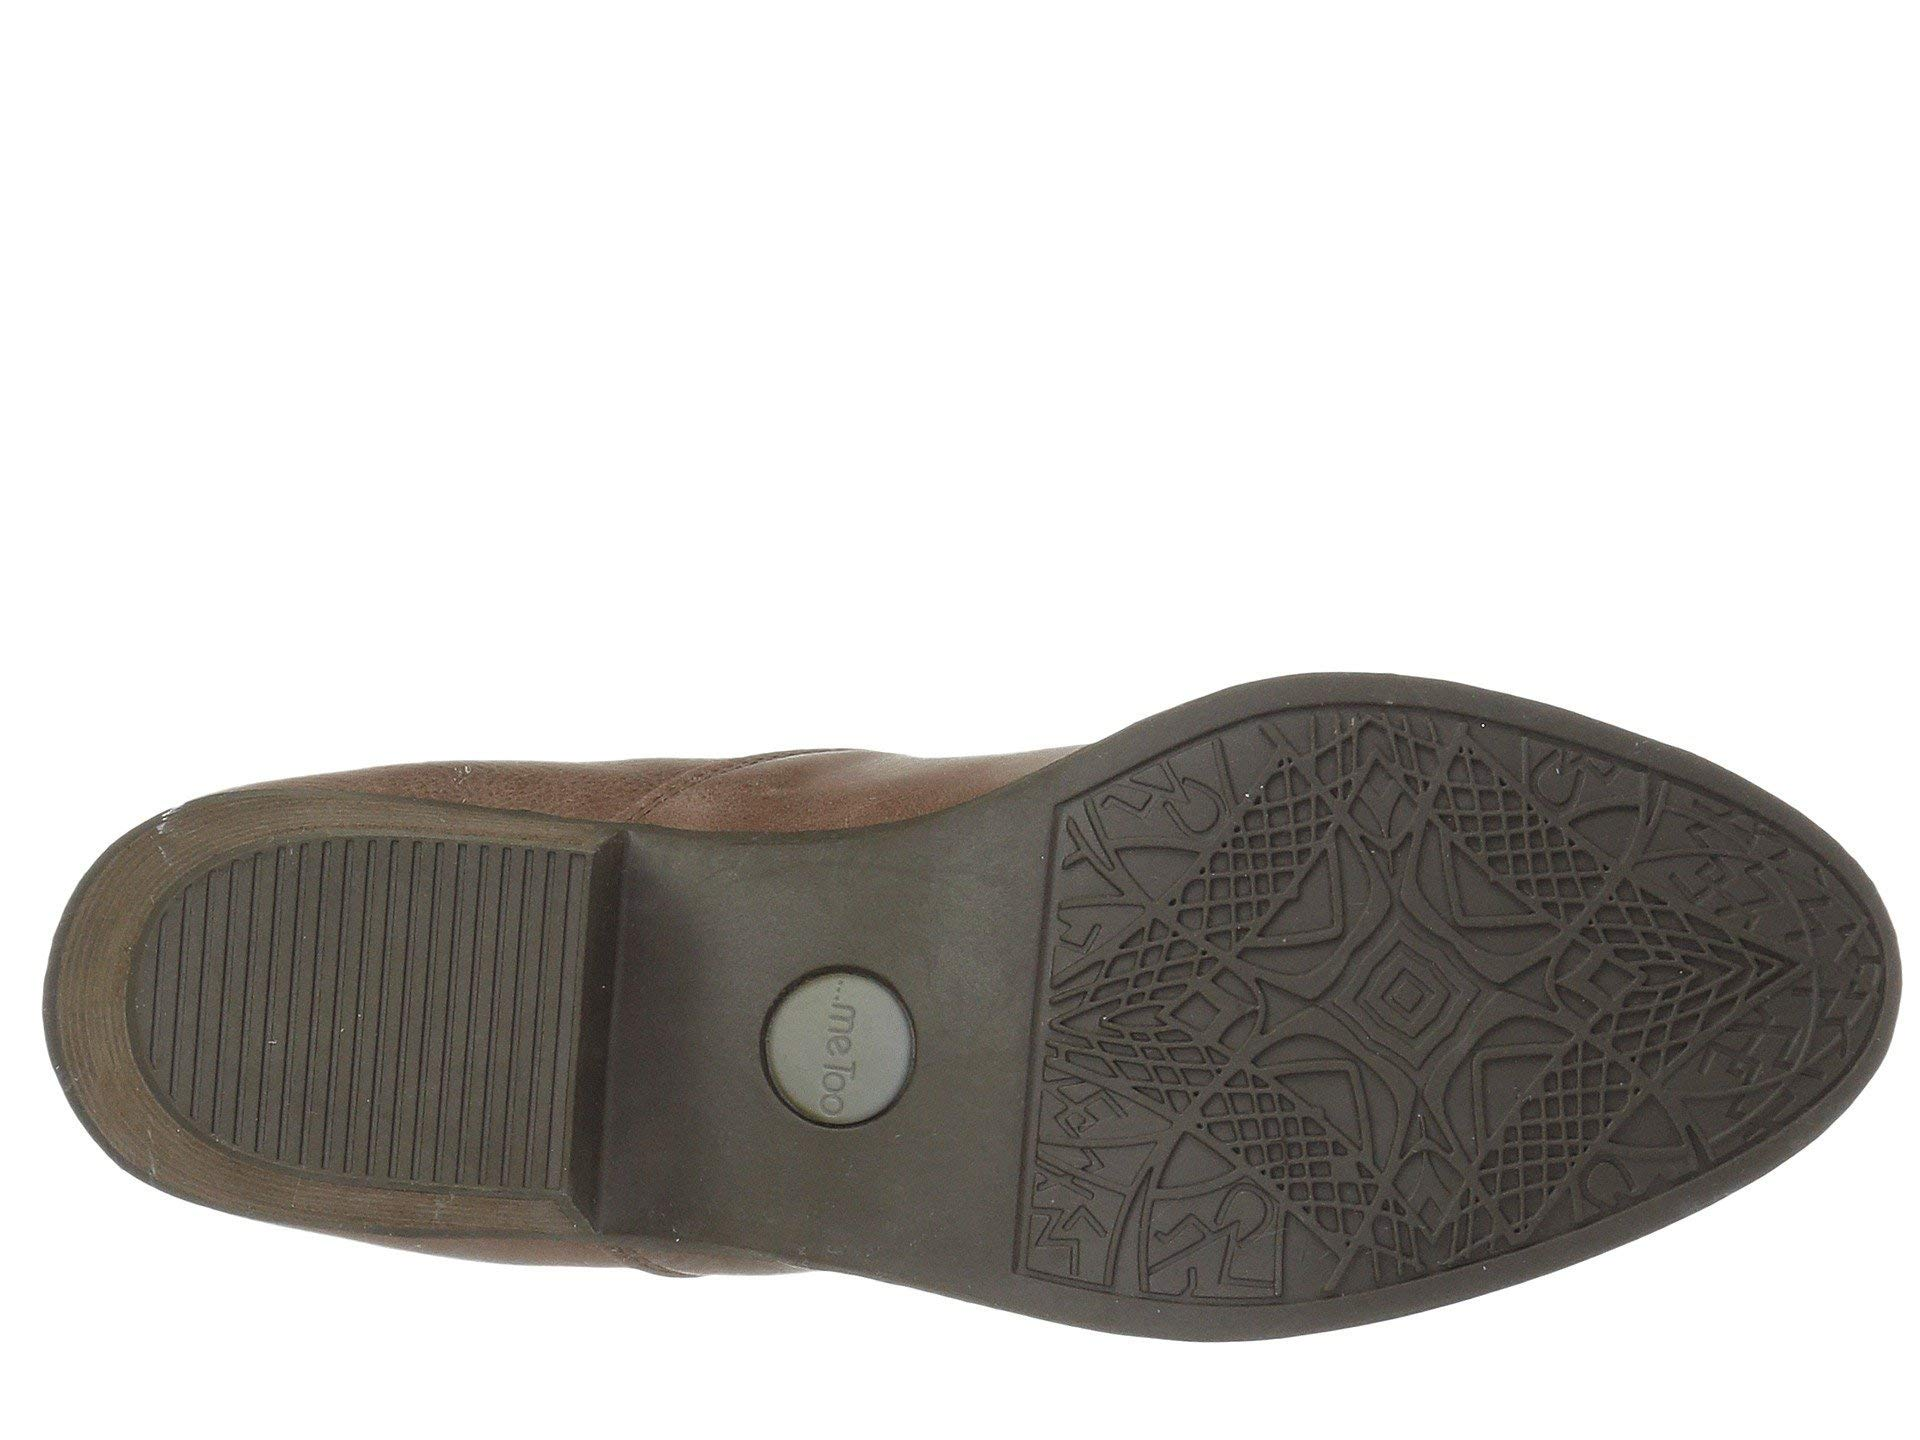circle: (698, 918, 1007, 1160)
quad: (1234, 850, 1544, 1125)
text: (698, 918, 1007, 1160)
triangle: (1234, 850, 1544, 1125)
